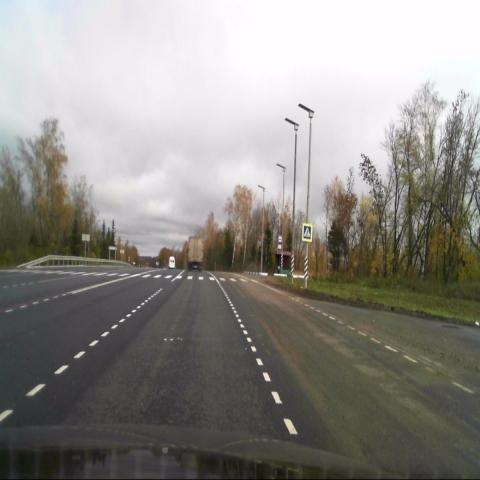5_19_1: (302, 223, 312, 243)
